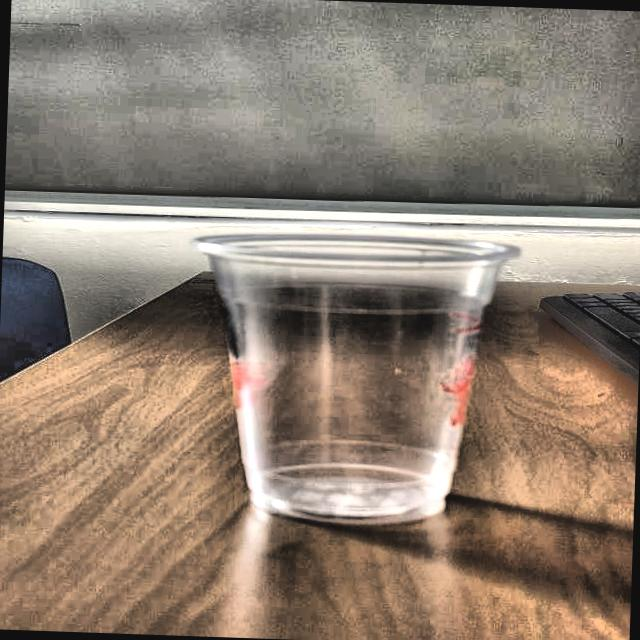plastic cup: (182, 224, 518, 529)
